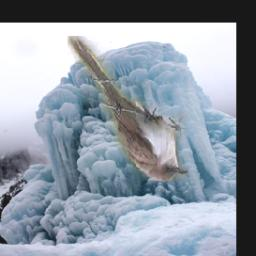Cuckoo: (67, 36, 188, 181)
